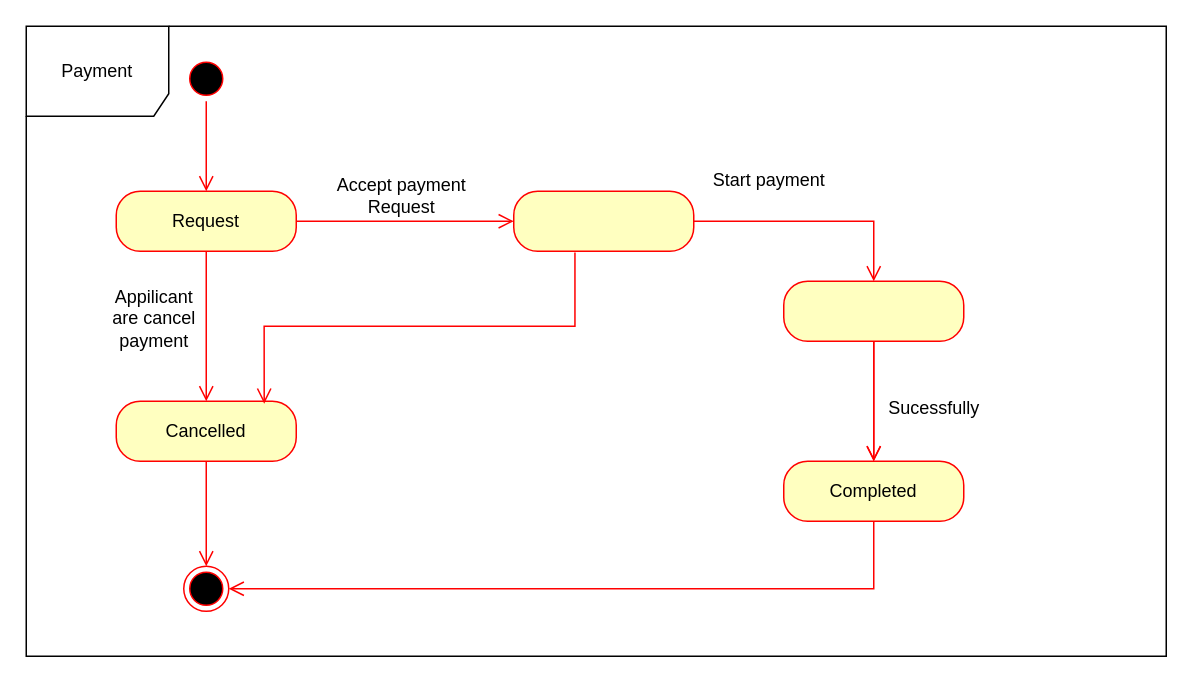
Some shapes in this 1193 by 683 pixel diagram are drawn without their labels. Here are the shapes that lost their labels. From the top down, the centre of each, then its label:
the point at 603,220: Accepted
the point at 873,310: Inprogress
